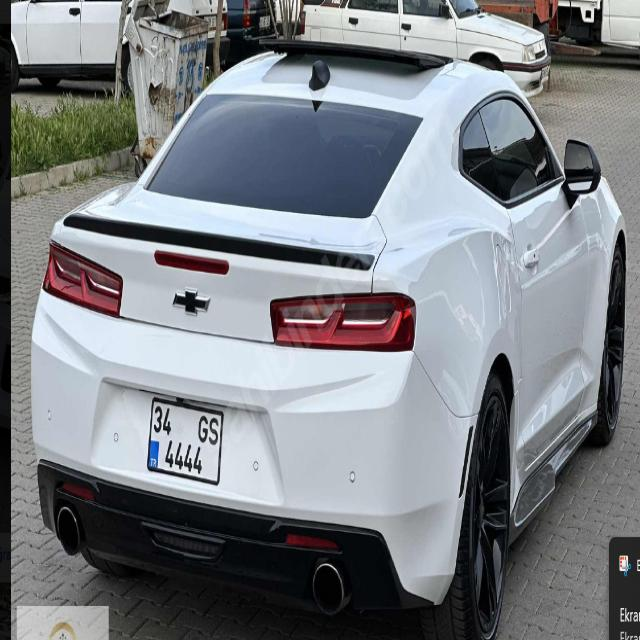chevrolet: (172, 281, 212, 320)
